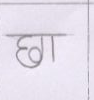aa_matra: (52, 36, 55, 62)
